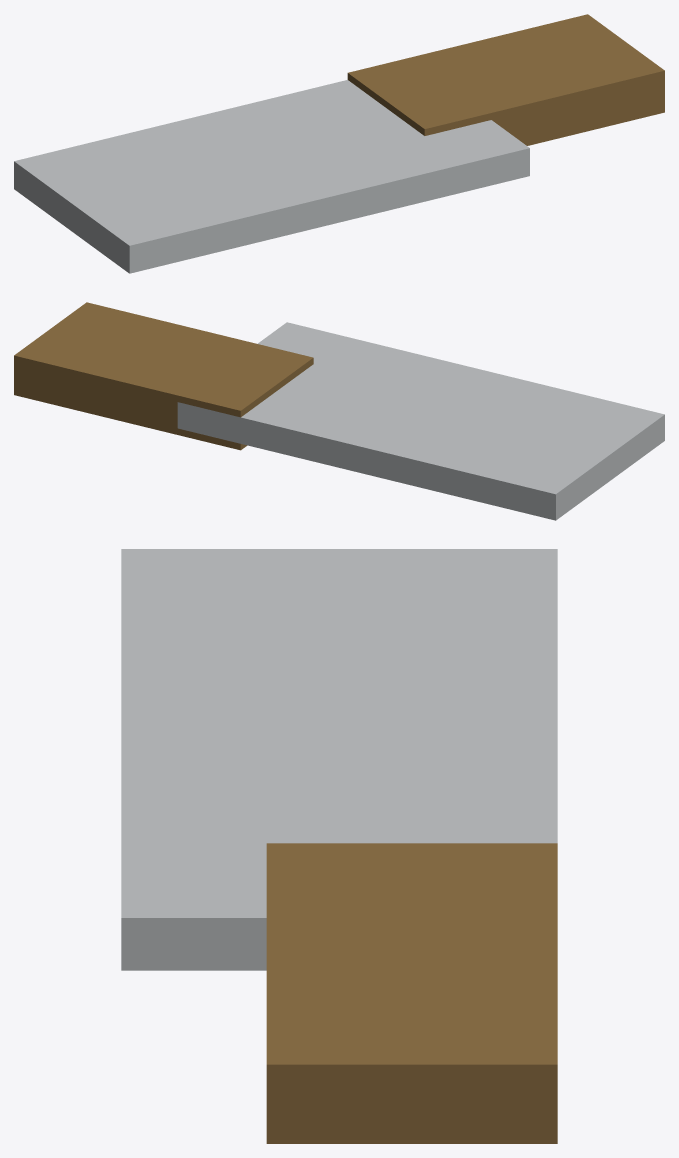
Rendered from knife.glb.
3 views of the same model, one above another, from view 1: azimuth 30°, elevation 25°; view 2: azimuth 150°, elevation 25°; view 3: azimuth 270°, elevation 25° (orthographic). The views are drawn at different scales.
Parts seen in each view (by area): view 1: Mesh_Mesh_head_geo.001_lambert2SG.001; view 2: Mesh_Mesh_head_geo.001_lambert2SG.001; view 3: Mesh_Mesh_head_geo.001_lambert2SG.001.
Boxes of the visible parts, x1,y1,x2,y2 form: Mesh_Mesh_head_geo.001_lambert2SG.001: [14, 14, 664, 273]; Mesh_Mesh_head_geo.001_lambert2SG.001: [14, 302, 664, 520]; Mesh_Mesh_head_geo.001_lambert2SG.001: [121, 549, 557, 1143].
Size of the model in its own units: 43 by 3 by 15.
